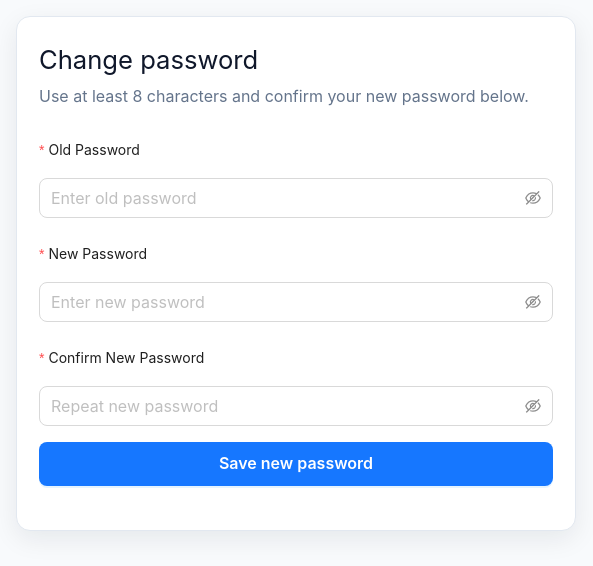
ChangePasswordForm › shows a validation message when confirmation does not match
This screenshot has width=593, height=566.
Type "password123" into the password field labelled "New Password" at (286, 302), box [51,290,521,314]
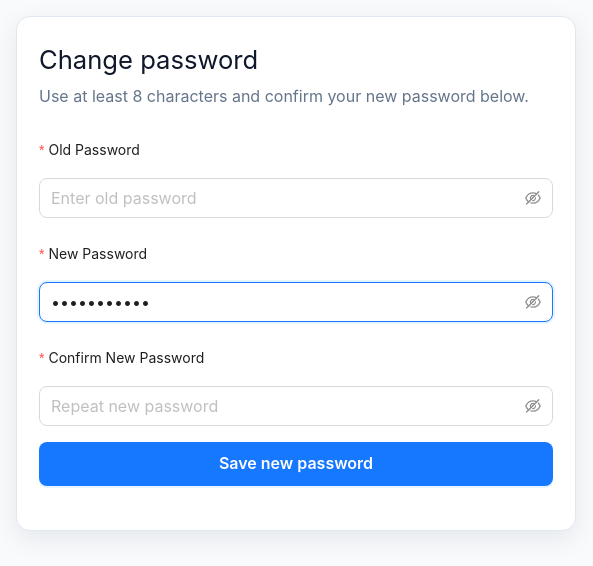
Type "different123" into the password field labelled "Confirm New Password" at (286, 406), box [51,394,521,418]
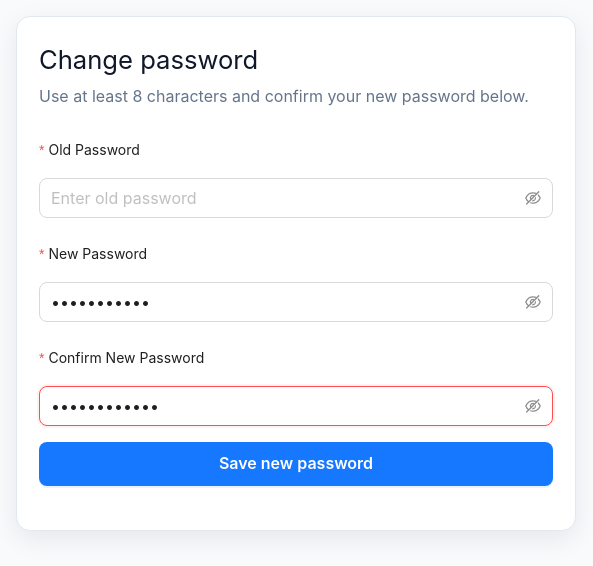
Click the button "Save new password" at (296, 464), box [39,442,553,486]
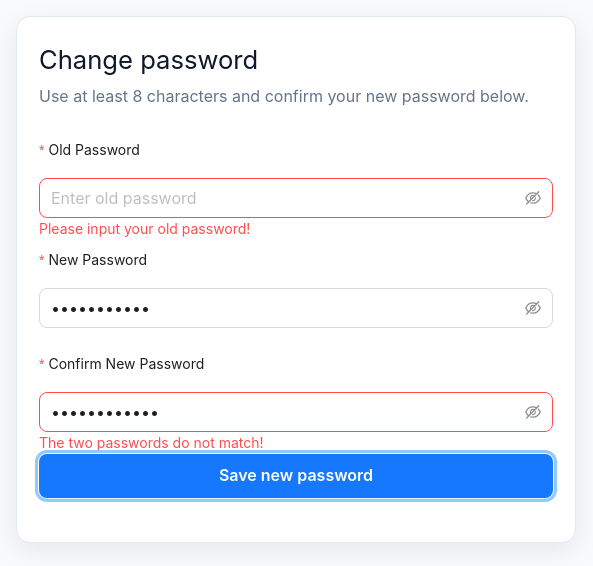
Expected: the text "The two passwords do not match!" is shown, [39,434,264,451]
